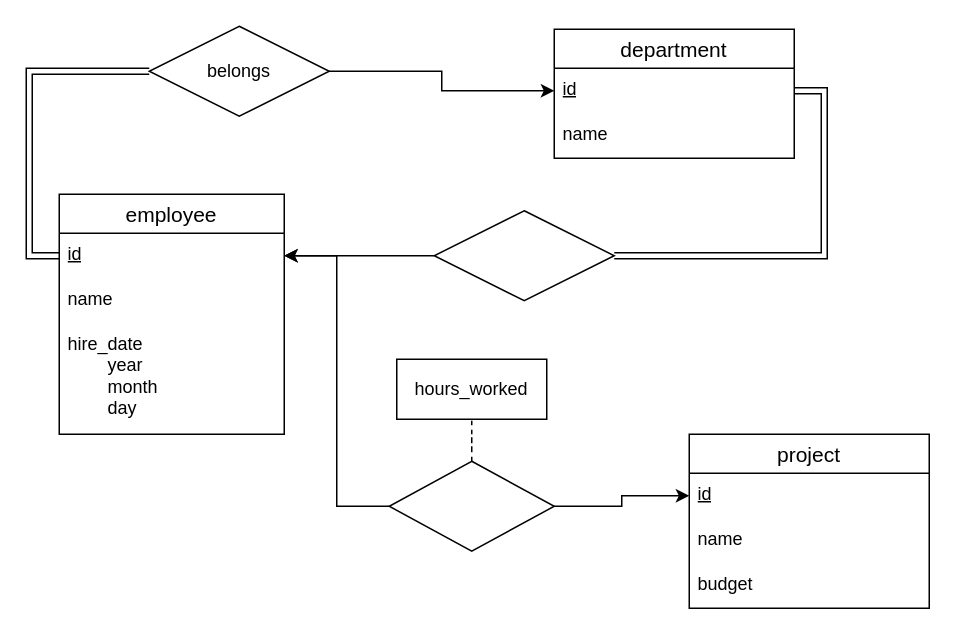
Image size: 956x639. Some labels were removed from this diagram. Each missing label, with the centre of its shape:
assignment: (471,505)
manages: (523,255)
